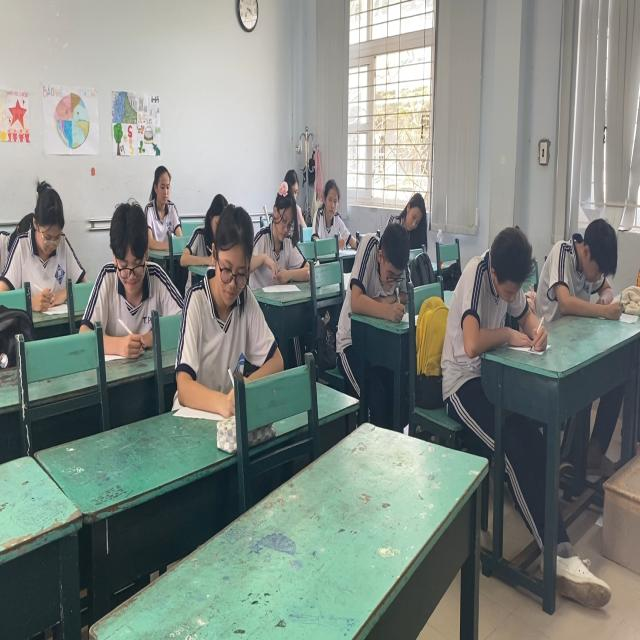not_cheating: (171, 192, 267, 388), (450, 215, 552, 347), (88, 198, 177, 346), (558, 198, 628, 322), (338, 222, 414, 326), (12, 178, 88, 280), (259, 178, 302, 270), (138, 167, 188, 246), (310, 164, 348, 243), (393, 188, 432, 246)
